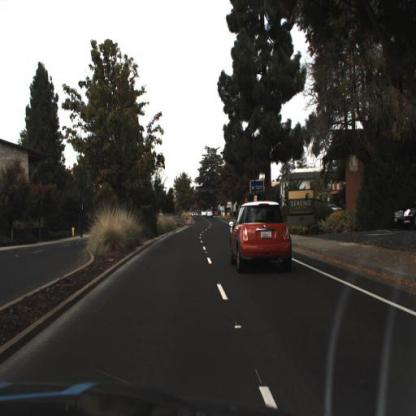car: (227, 199, 297, 273), (393, 199, 416, 233)
